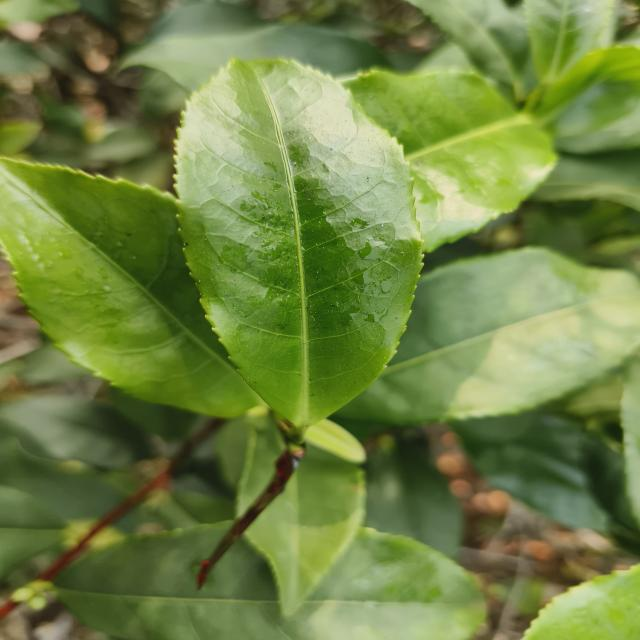Leaf: (176, 60, 421, 426), (0, 160, 258, 417), (338, 247, 640, 425), (55, 521, 485, 640), (346, 69, 556, 251), (451, 411, 640, 551), (121, 3, 387, 91), (245, 442, 365, 616), (408, 0, 528, 99), (365, 438, 463, 557), (0, 395, 149, 469), (536, 46, 640, 138), (523, 564, 640, 640), (523, 0, 614, 84), (236, 416, 283, 514), (87, 127, 156, 163)
